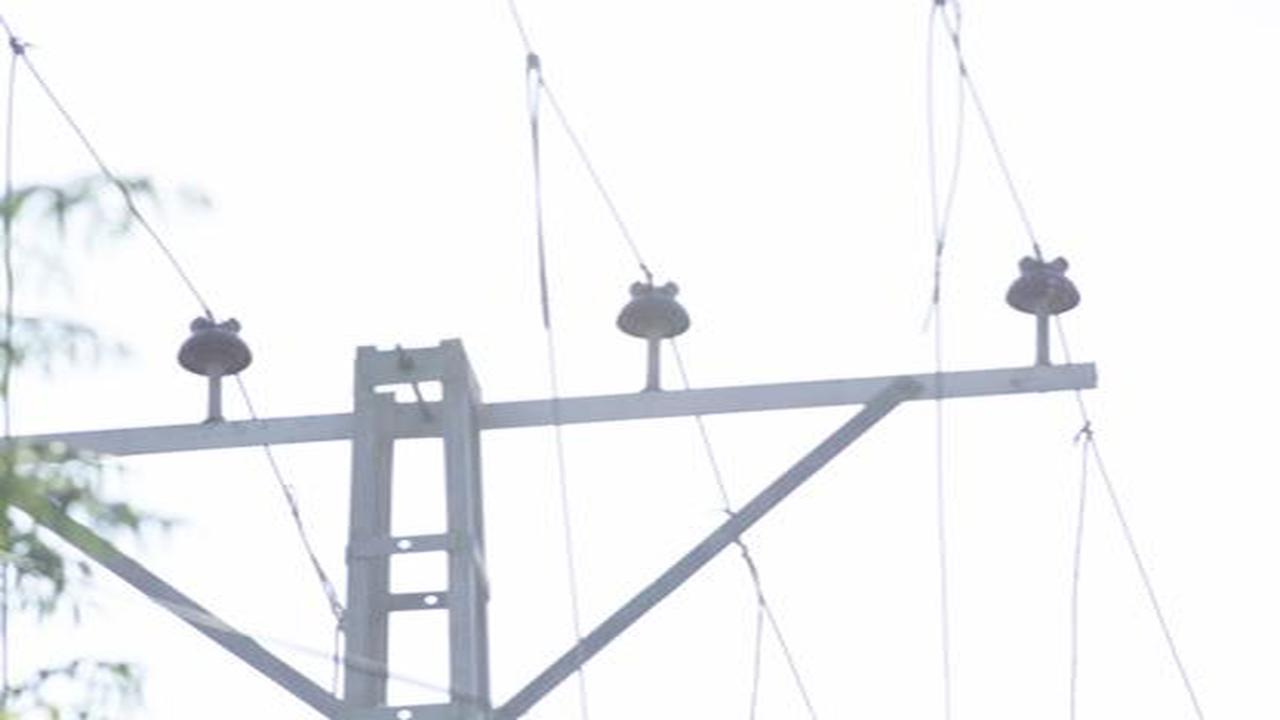insulator_pin: (615, 270, 693, 347), (1006, 251, 1083, 324), (175, 310, 252, 380)
